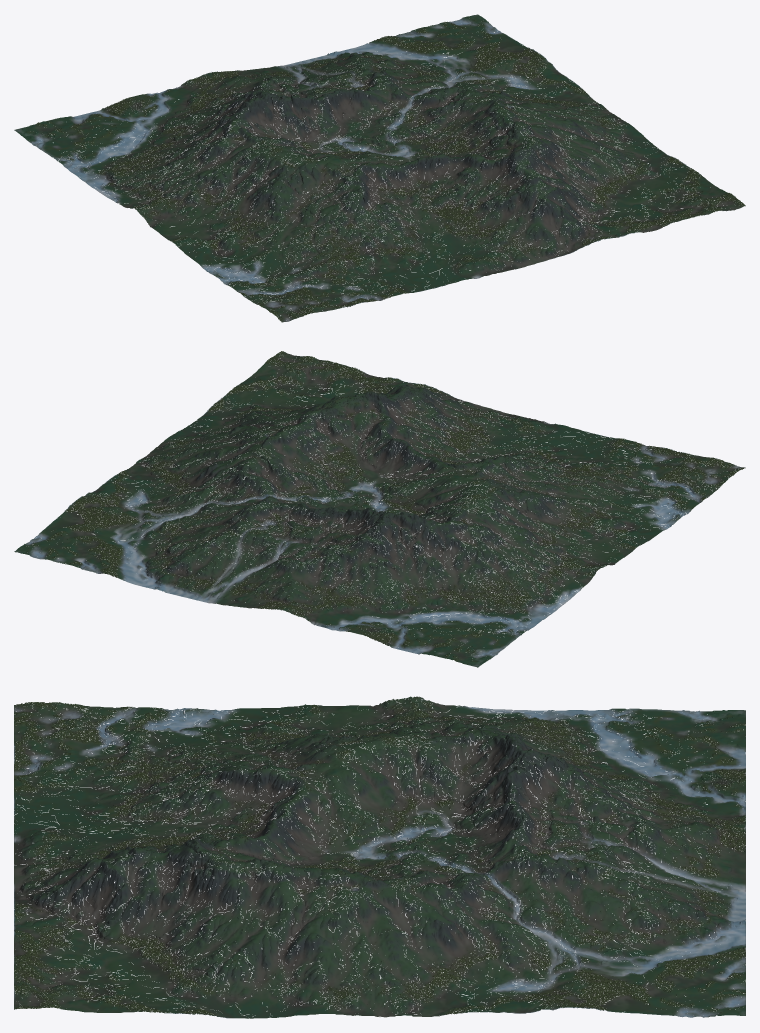
File: terrain-mobile.glb
The picture shows the model from 3 angles, top to bottom: view 1: azimuth 30°, elevation 25°; view 2: azimuth 150°, elevation 25°; view 3: azimuth 270°, elevation 25°; orthographic projection. The views are drawn at different scales.
Visible parts, largest first — view 1: Mesher; view 2: Mesher; view 3: Mesher.
Boxes of the visible parts, bbox=[...] form: Mesher: bbox=[14, 14, 745, 322]; Mesher: bbox=[14, 351, 745, 667]; Mesher: bbox=[14, 696, 745, 1018].
Size of the model in its own units: 2 by 0.2337 by 2.
Materials: 1 (1 with a texture image).
